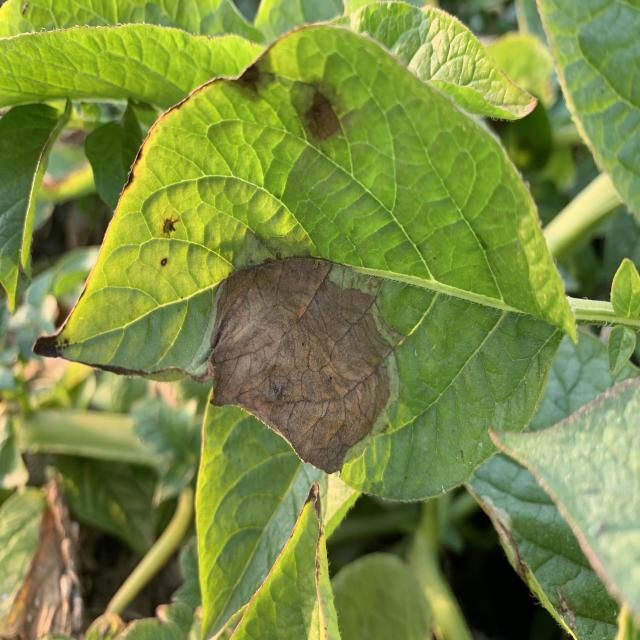lateblight: (208, 257, 402, 473), (290, 82, 341, 142), (76, 360, 189, 382), (34, 332, 64, 357)
